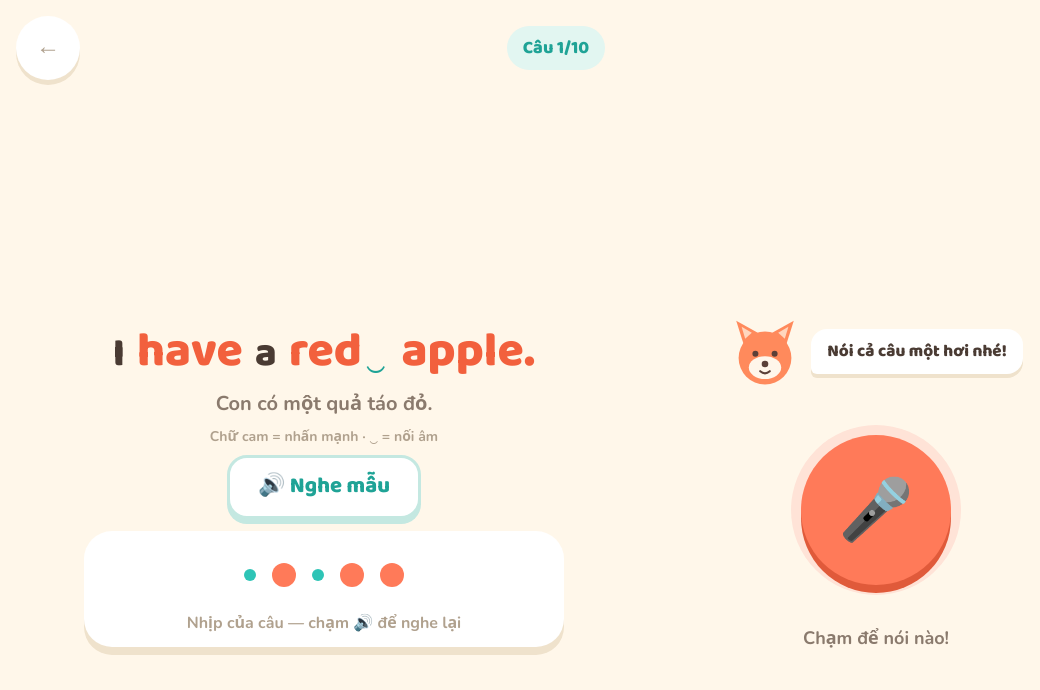
Scenario: says so when the sample audio is missing
The image size is (1040, 690).
Click the button "🔊 Nghe mẫu". click: (324, 486)
box: 227,454 -> 421,518
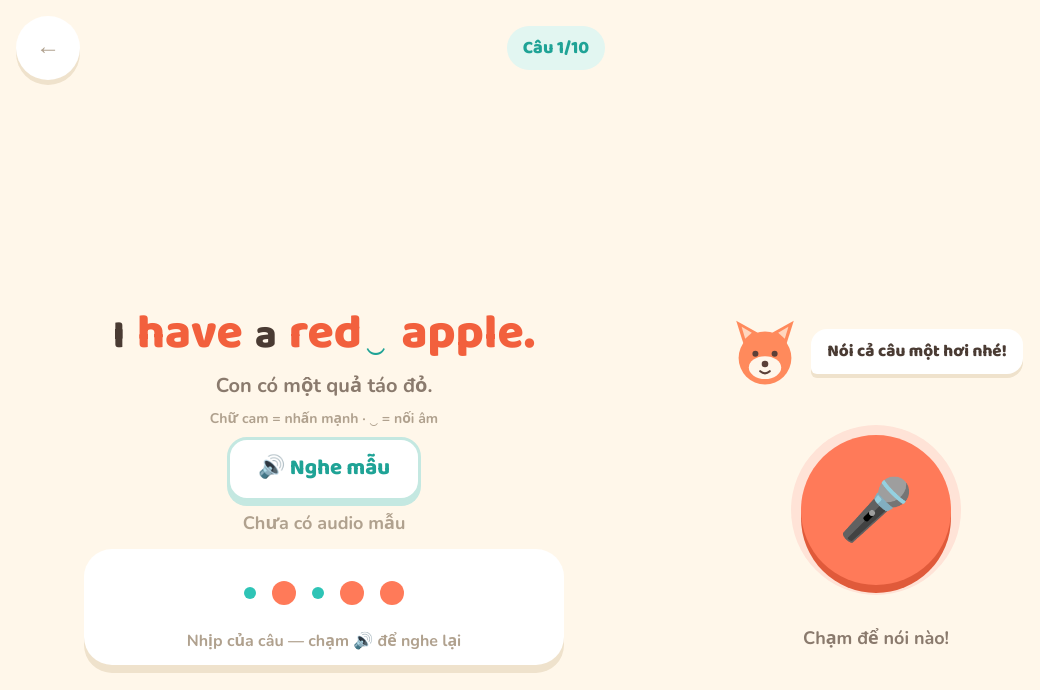
Expected: the text "Chưa có audio mẫu" is shown, 243,508 -> 405,536
